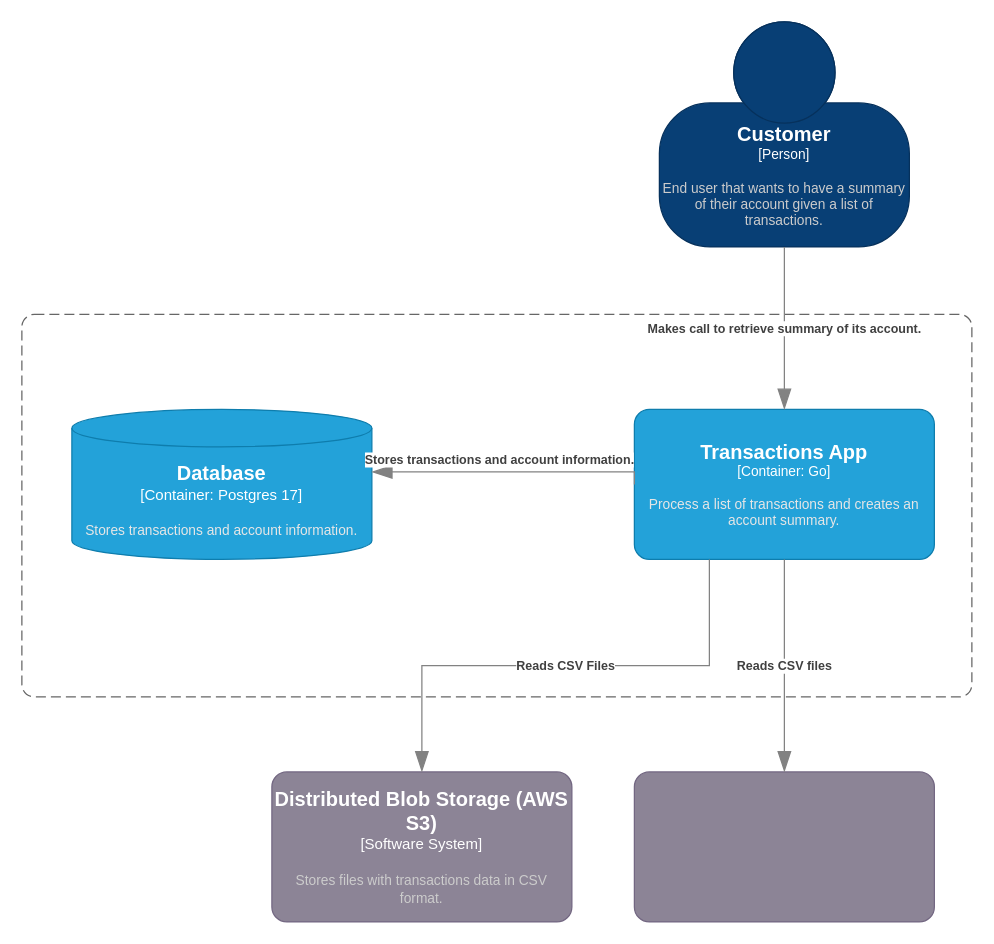
Some shapes in this 994 by 944 pixel diagram are drawn without their labels. Each missing label, with the box of its shape:
File System [Software System] Stores files with transactions data in CSV format.: (633, 771, 934, 922)
Transactions Processing System [Software System]: (21, 313, 972, 697)
